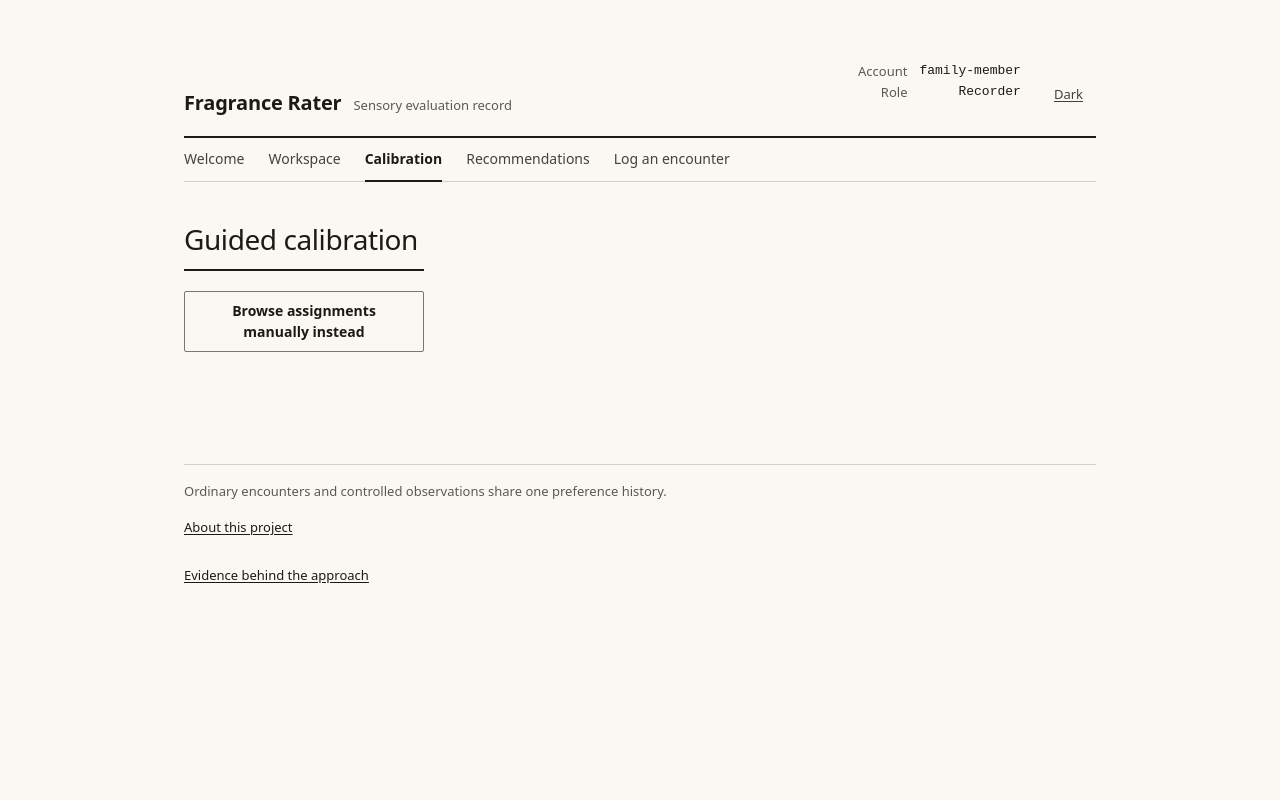
Test: About / Methodology page › navigates from the footer link on another page without a full page reload
What coordinates should you click on to do the following:
click the link "About this project"
I would click on:
 (238, 527)
Its box is top-left (184, 518), bottom-right (293, 536).
(page scrolled)
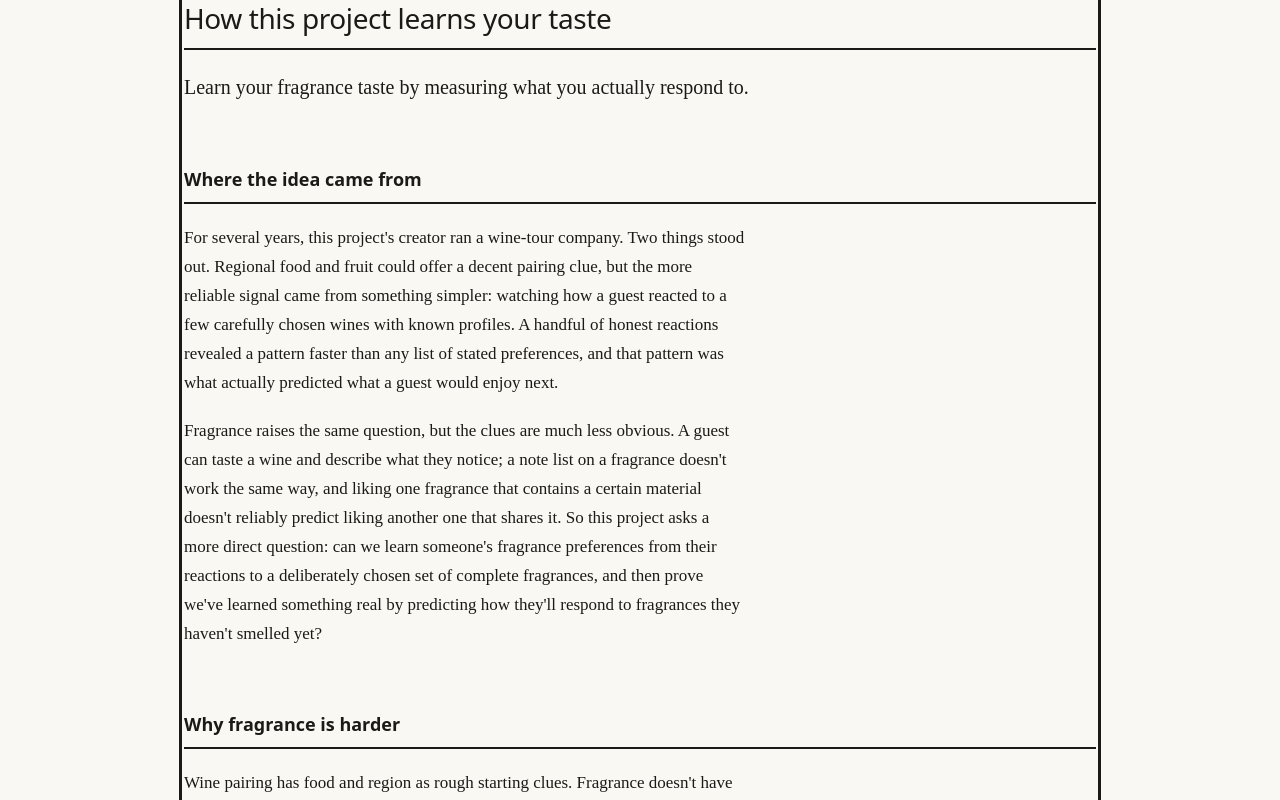
Result: the heading "How this project learns your taste" is shown at top-left (184, 1), bottom-right (611, 36)
